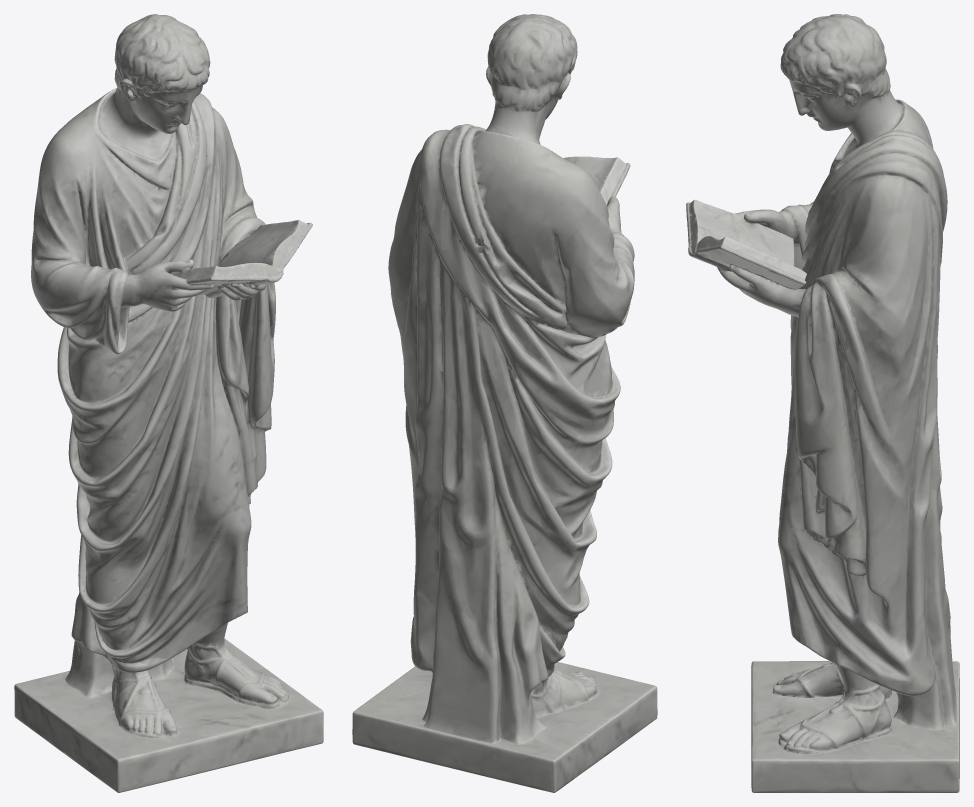
File: scholar.glb
3 renders of one model, left to right at view 1: azimuth 30°, elevation 25°; view 2: azimuth 150°, elevation 25°; view 3: azimuth 270°, elevation 25°, orthographic.
Size of the model in its own units: 0.6382 by 1.9 by 0.6584.
Materials: 1 (1 with a texture image).
